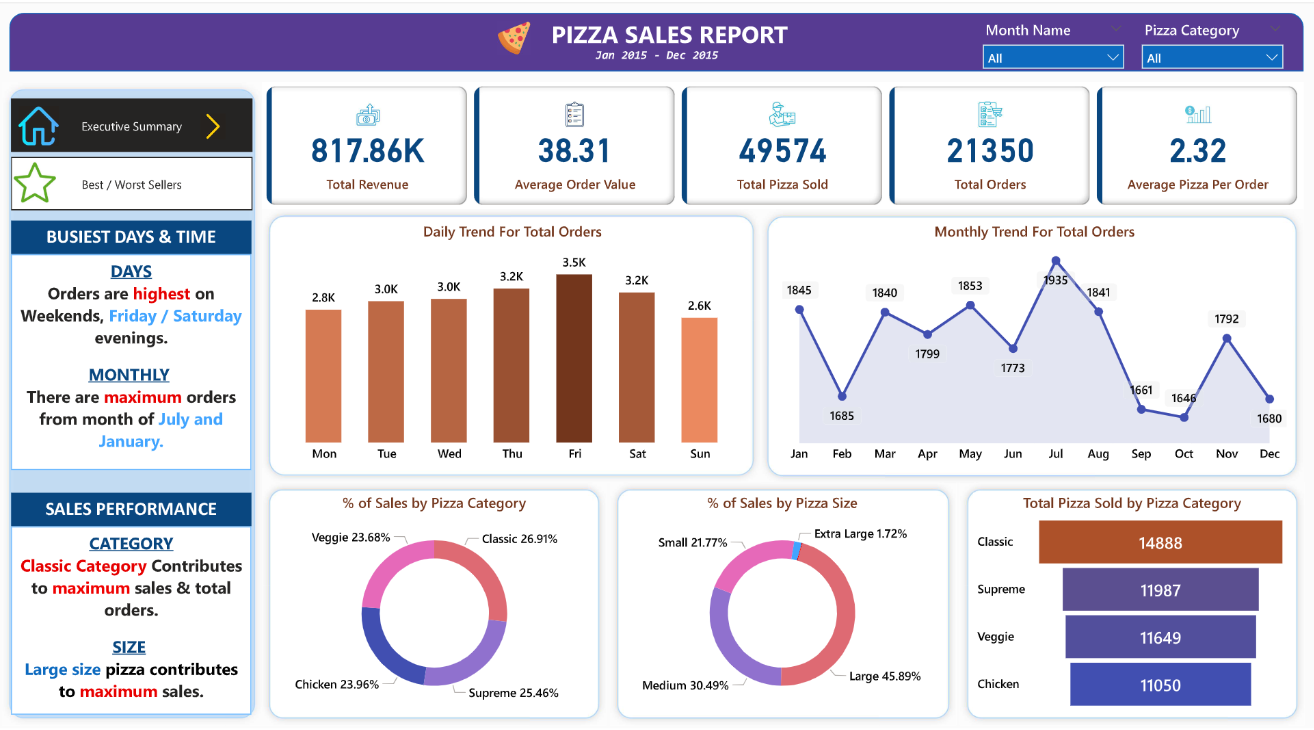

What the dashboard file says about the page in this screenshot:
{"tool":"powerbi","page":{"name":"Executive Summary","canvas":[1500,820],"ordinal":0},"visuals":[{"type":"shape","box":[8.2,88.6,293.6,728.2],"z":0},{"type":"cardVisual","fields":{"Data":["Calculated Measures.Total Revenue","Calculated Measures.Average Order Value","Calculated Measures.Total Pizza Sold","Calculated Measures.Total Orders","Calculated Measures.Average Pizza Per Order"]},"box":[301.8,88.6,1179.2,144.3],"z":1000},{"type":"shape","box":[16.4,11.5,1464.5,65.6],"z":2000},{"type":"textbox","box":[606.8,11.5,313.2,65.6],"z":3000},{"type":"textbox","box":[611.7,44.3,273.9,32.8],"z":4000},{"type":"image","box":[562.5,14.8,49.2,49.2],"z":5000},{"type":"shape","box":[301.8,232.3,564.2,310],"z":6000},{"type":"columnChart","title":"Daily  Trend For Total Orders","fields":{"Category":["Date.Day"],"Y":["Calculated Measures.Total Orders"]},"box":[317.8,246.7,535.6,281.1],"z":7000},{"type":"shape","box":[865.9,232.9,615,310],"z":8000},{"type":"areaChart","title":"Monthly Trend For Total Orders","fields":{"Category":["Date.Month_Name"],"Y":["Calculated Measures.Total Orders"]},"box":[886,247,581,281],"z":9000},{"type":"shape","box":[301.7,541.7,390,275],"z":10000},{"type":"shape","box":[695.8,541.7,391.7,275],"z":11000},{"type":"shape","box":[1091.7,541.7,390,275],"z":12000},{"type":"donutChart","title":"% of Sales by Pizza Category","fields":{"Category":["Pizza Category Key.Pizza Category"],"Y":["Calculated Measures.Total Revenue"]},"box":[318.2,553.6,358.2,250.9],"z":13000},{"type":"donutChart","title":"% of Sales by Pizza Size","fields":{"Y":["Calculated Measures.Total Revenue"],"Category":["Pizza Size Dim.Pizza Size"]},"box":[711.8,553.6,358.2,250.9],"z":14000},{"type":"funnel","fields":{"Y":["Calculated Measures.Total Pizza Sold"],"Category":["Pizza Category Key.Pizza Category"]},"box":[1107.3,553.6,360,250.9],"z":15000},{"type":"textbox","box":[18,246,272.2,37.7],"z":16000},{"type":"textbox","box":[18,283.7,272.2,244.4],"z":17000},{"type":"textbox","box":[18,554.3,272.2,37.7],"z":18000},{"type":"textbox","box":[18,592,272.2,213.2],"z":19000},{"type":"slicer","fields":{"Values":["Pizza Category Key.Pizza Category"]},"box":[1287.5,14.2,180,61.7],"z":20000},{"type":"slicer","fields":{"Values":["Date.Month_Name"]},"box":[1107.5,14.2,180,61.7],"z":21000},{"type":"pageNavigator","box":[18,108.2,273.9,60.7],"z":22000},{"type":"pageNavigator","box":[18,173.8,273.9,60.7],"z":23000},{"type":"image","box":[21.3,108.2,55.8,60.7],"z":25000},{"type":"image","box":[16.4,172.2,57.4,60.7],"z":26000},{"type":"image","box":[201.7,180.4,88.6,45.9],"z":26001}]}

Visuals, with their boxes in screenshot pixels (x1, y1, x2, y2), scaled from the page's 1500x820 canvas onto the 1314x730 screenshot:
shape: <region>7, 79, 264, 727</region>
cardVisual - Calculated Measures.Total Revenue x Calculated Measures.Average Order Value: <region>264, 79, 1297, 207</region>
shape: <region>14, 10, 1297, 69</region>
textbox: <region>532, 10, 806, 69</region>
textbox: <region>536, 39, 776, 69</region>
image: <region>493, 13, 536, 57</region>
shape: <region>264, 207, 759, 483</region>
"Daily  Trend For Total Orders" columnChart: <region>278, 220, 748, 470</region>
shape: <region>759, 207, 1297, 483</region>
"Monthly Trend For Total Orders" areaChart: <region>776, 220, 1285, 470</region>
shape: <region>264, 482, 606, 727</region>
shape: <region>610, 482, 953, 727</region>
shape: <region>956, 482, 1298, 727</region>
"% of Sales by Pizza Category" donutChart: <region>279, 493, 593, 716</region>
"% of Sales by Pizza Size" donutChart: <region>624, 493, 937, 716</region>
funnel - Calculated Measures.Total Pizza Sold x Pizza Category Key.Pizza Category: <region>970, 493, 1285, 716</region>
textbox: <region>16, 219, 254, 253</region>
textbox: <region>16, 253, 254, 470</region>
textbox: <region>16, 493, 254, 527</region>
textbox: <region>16, 527, 254, 717</region>
slicer - Pizza Category Key.Pizza Category: <region>1128, 13, 1286, 68</region>
slicer - Date.Month_Name: <region>970, 13, 1128, 68</region>
pageNavigator: <region>16, 96, 256, 150</region>
pageNavigator: <region>16, 155, 256, 209</region>
image: <region>19, 96, 68, 150</region>
image: <region>14, 153, 65, 207</region>
image: <region>177, 161, 254, 201</region>
